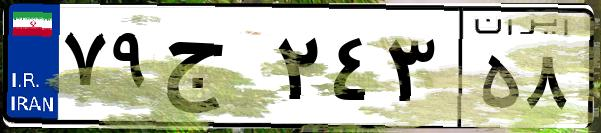2: (270, 28, 330, 110)
3: (385, 28, 445, 110)
4: (330, 28, 385, 110)
5: (475, 38, 525, 113)
7: (57, 26, 110, 100)
8: (525, 38, 570, 115)
9: (110, 28, 158, 98)
ج: (158, 20, 270, 120)
